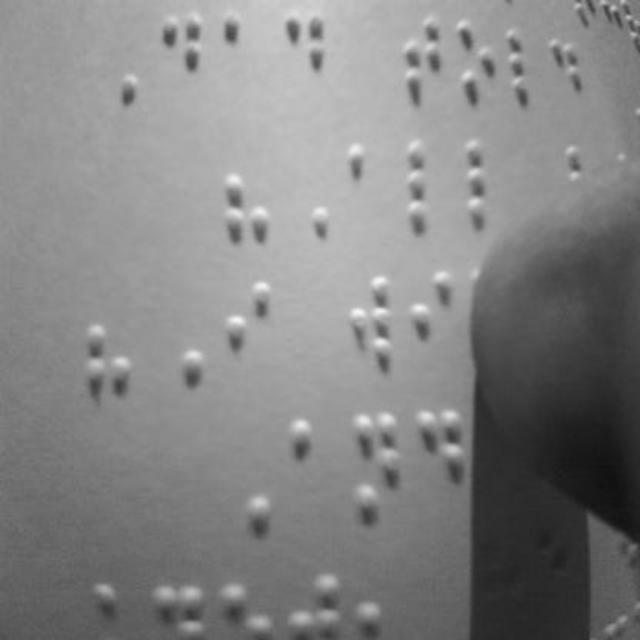braiile: (227, 272, 283, 388), (414, 402, 470, 516), (351, 410, 407, 522), (288, 413, 342, 522), (467, 136, 528, 232), (411, 264, 463, 372), (280, 4, 336, 104), (348, 271, 404, 371), (160, 1, 212, 105), (400, 3, 452, 103), (348, 135, 402, 231), (220, 2, 272, 98), (408, 136, 460, 232), (456, 5, 502, 105), (508, 13, 556, 102)
